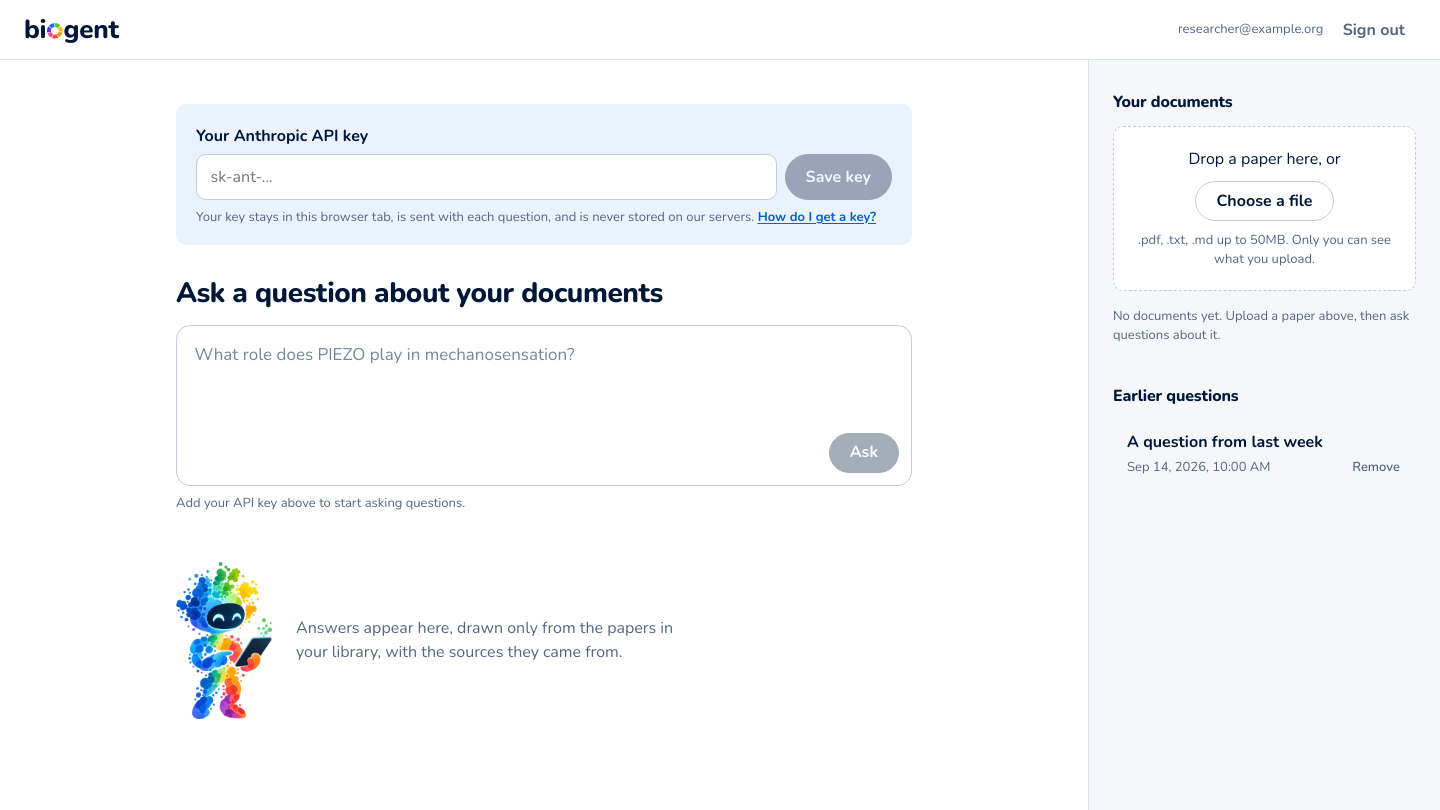
Test case: App, question history › clears the answer panel when the entry on screen is removed
This screenshot has width=1440, height=810.
Click the button "A question from last week": (1266, 442) [1127,431,1404,453]
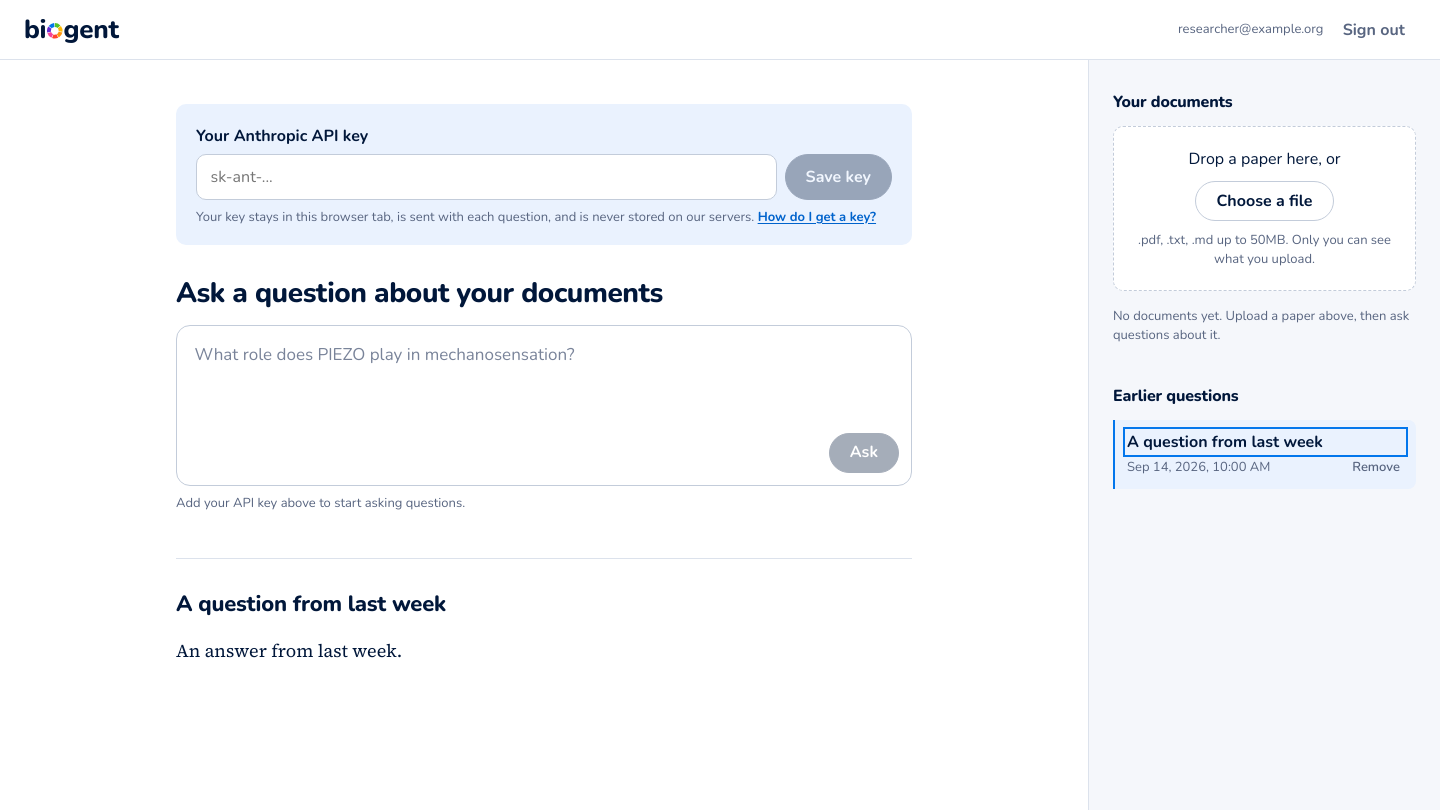
Now the text "An answer from last week." is shown, box [176,638,402,663]
Click the button named "remove \"a question from last week\"": (1376, 468) [1348,456,1404,479]
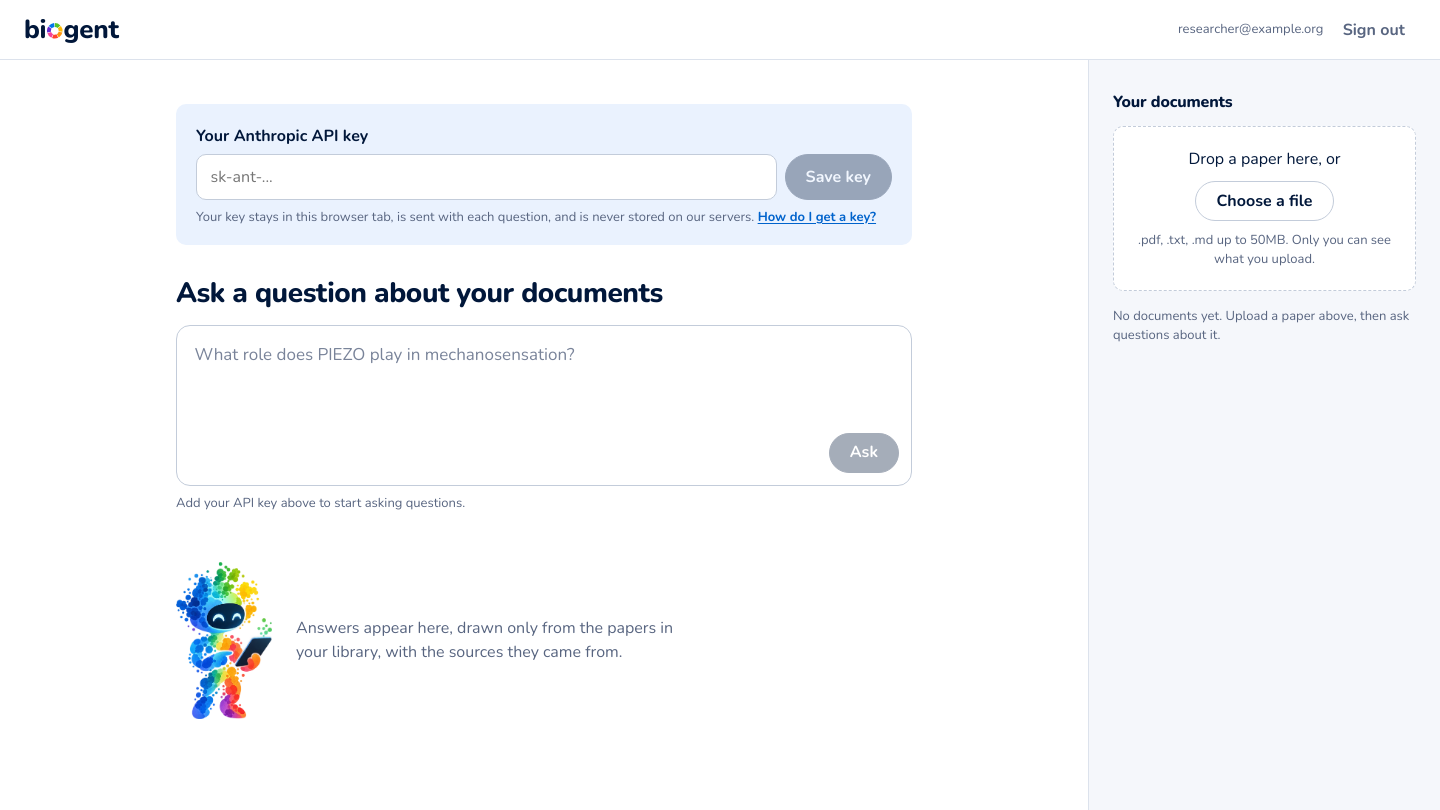
Now the text "An answer from last week." is gone
